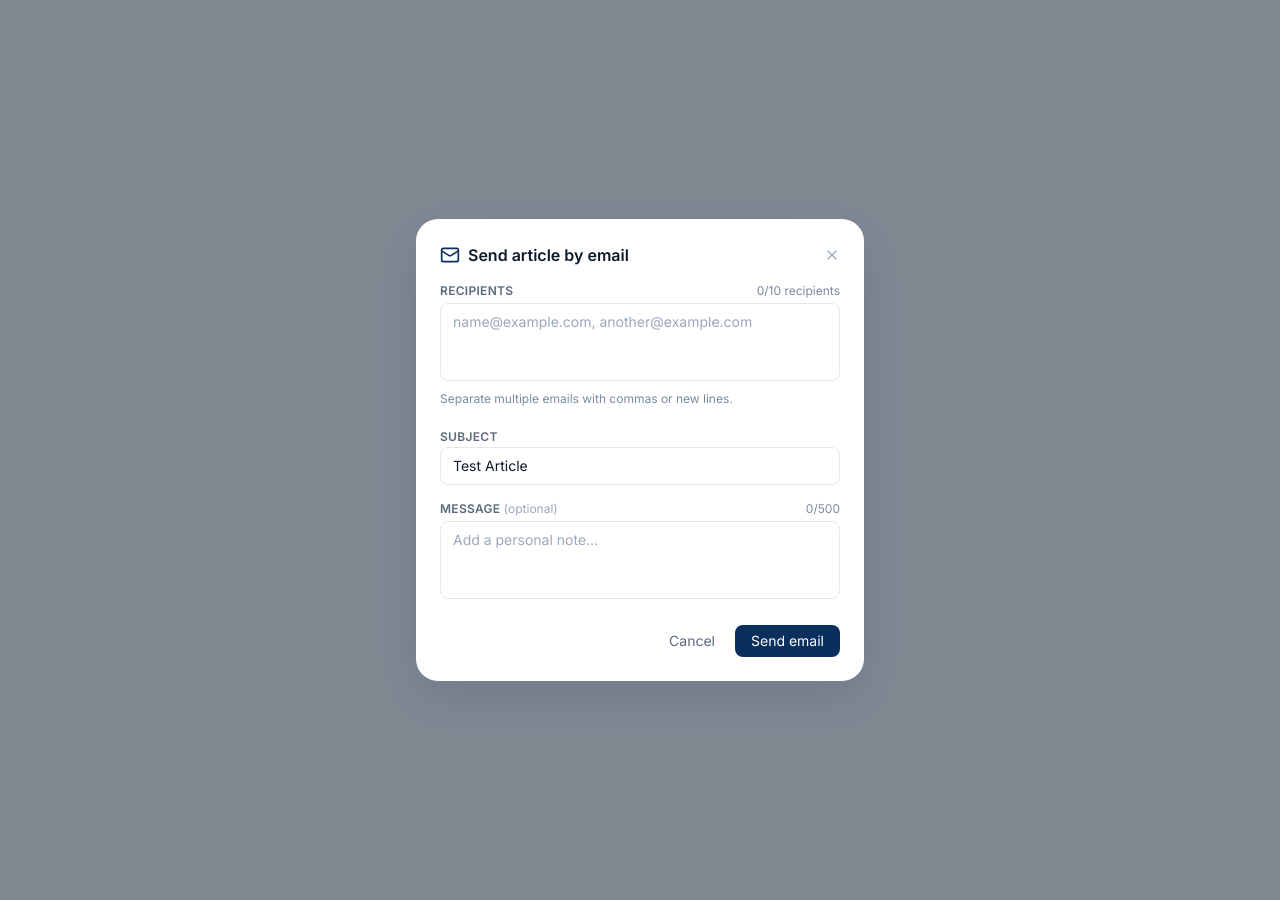
Test case: EmailArticleModal (KR-084) › shows error for invalid email address
The width and height of the screenshot is (1280, 900).
Type "not-an-email" into the text box with placeholder "name@example.com, another@example.com" at (640, 342), box [440,303,840,381]
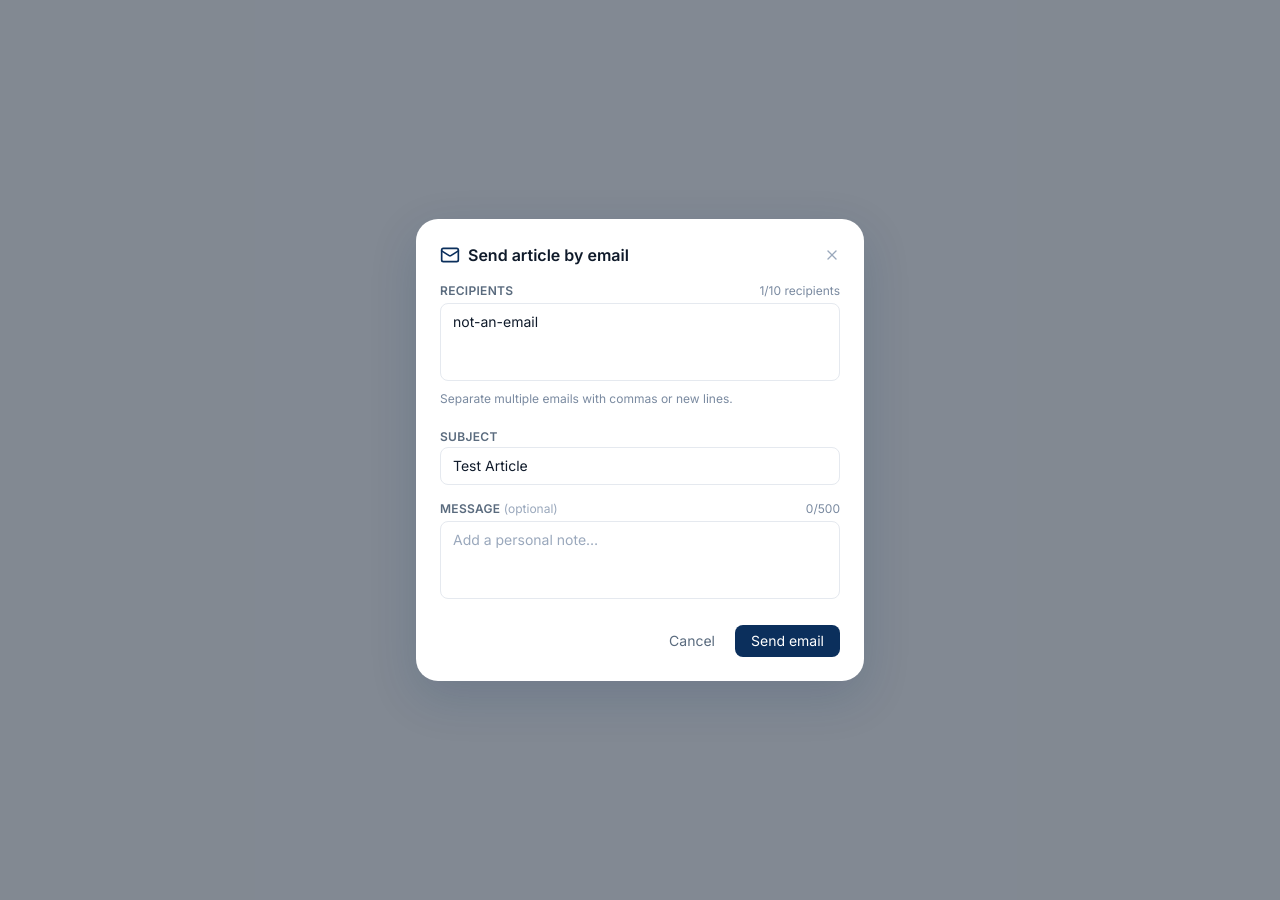
Click the button "Send email" at (788, 641), box [735,625,840,657]
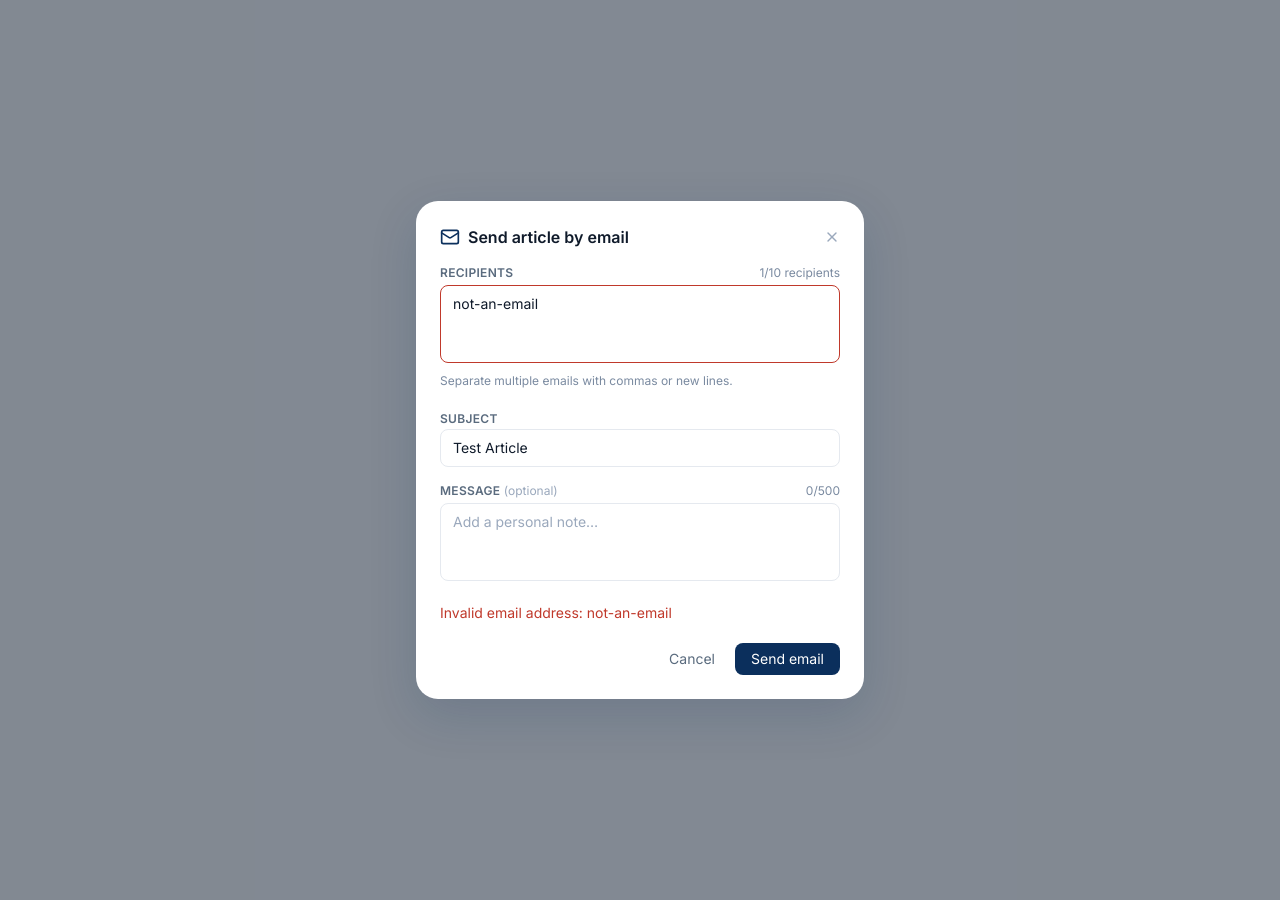
Expected: the text "Invalid email address: not-an-email" is shown, [440,604,672,621]
